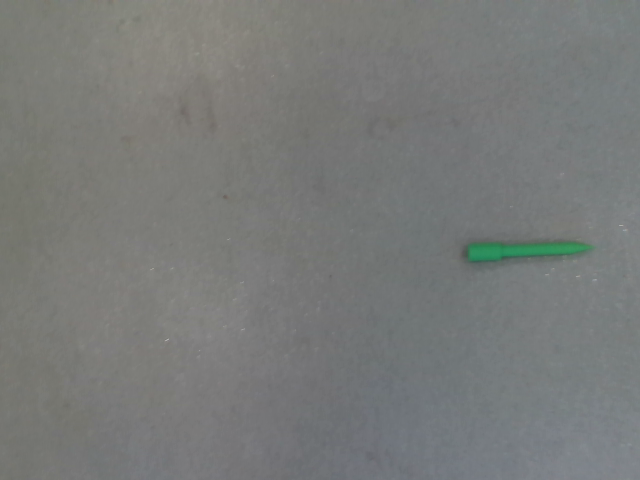Probe: (460, 233, 602, 269)
